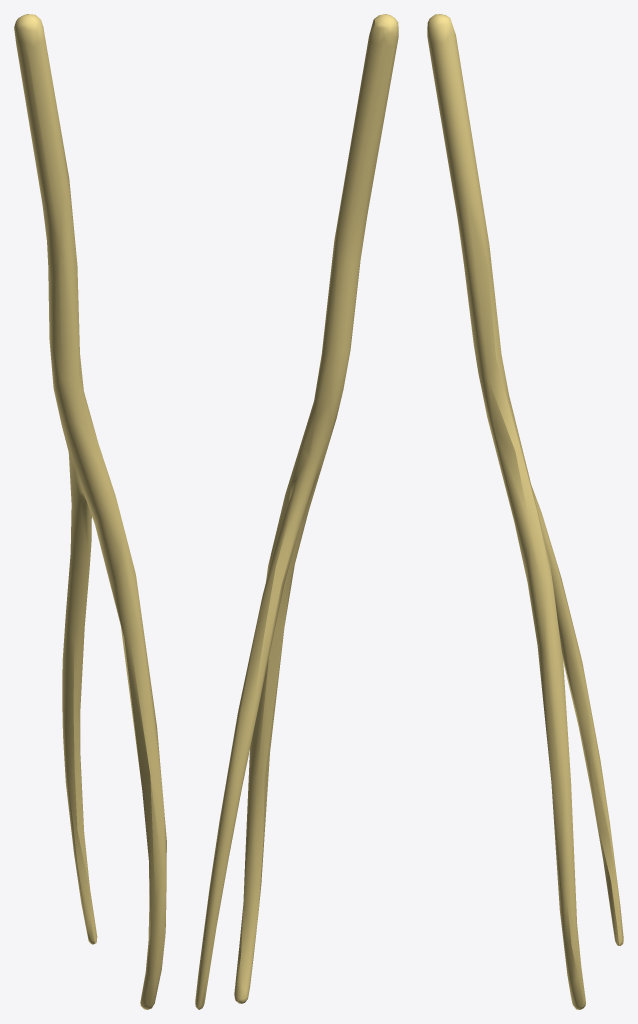
File: fma52592_fj4018.glb
3 renders of one model, left to right at view 1: azimuth 30°, elevation 25°; view 2: azimuth 150°, elevation 25°; view 3: azimuth 330°, elevation 25°, orthographic. The views are drawn at different scales.
Parts seen in each view (by area): view 1: FMA52592_FJ4018; view 2: FMA52592_FJ4018; view 3: FMA52592_FJ4018.
Boxes of the visible parts, x1,y1,x2,y2 form: FMA52592_FJ4018: (14,14,166,1009); FMA52592_FJ4018: (195,14,398,1009); FMA52592_FJ4018: (427,14,623,1009).
Bounding box in the file's own units: 0.00337 × 0.0218 × 0.00286.
